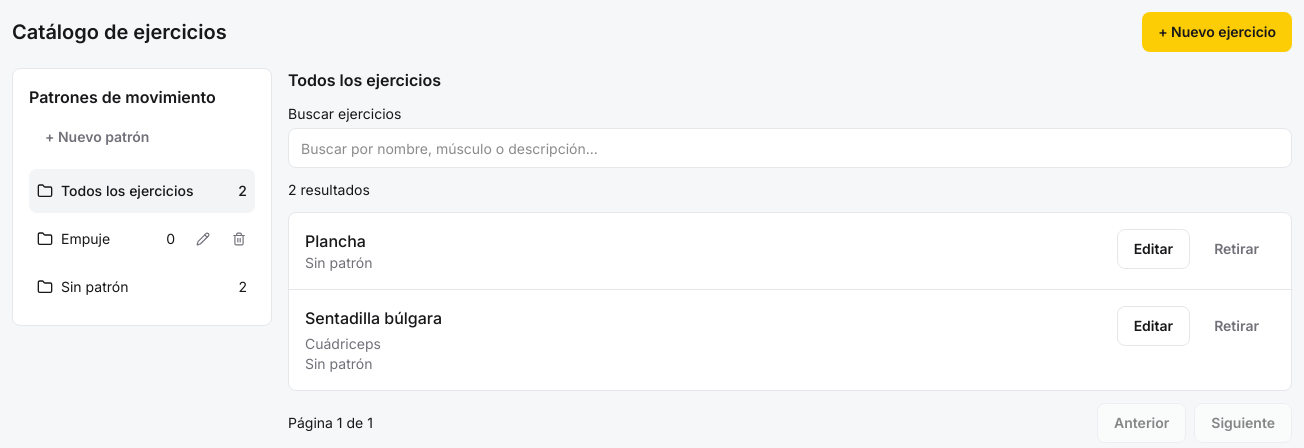
Scenario: lists active exercises alphabetically, omits empty optional fields and uses the shared search
The image size is (1304, 448).
Expected: the heading "Sentadilla búlgara" is shown, [305,308,442,328]
Expected: the list item "Plancha Sin patrón Editar Retirar" does not show "·", [289,213,1291,290]
Type "BULGARA futbol" into the search field. click: coordinates (790, 148)
box: [288,128,1292,168]
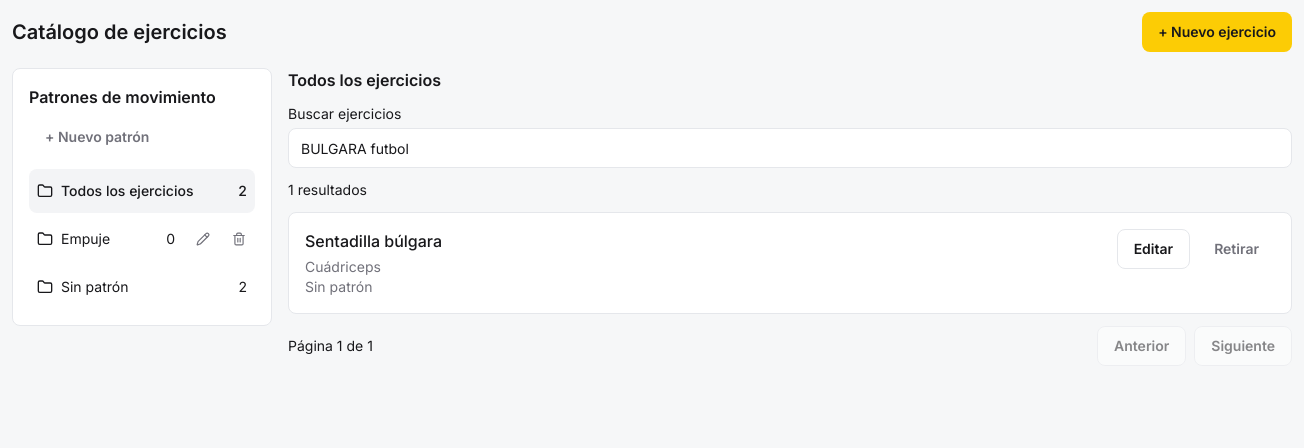
Expected: the heading "Sentadilla búlgara" is shown, [305,231,442,251]
Now the heading "Plancha" is gone
Replace the text in the search field with "tenis". click: coordinates (790, 148)
box: [288,128,1292,168]
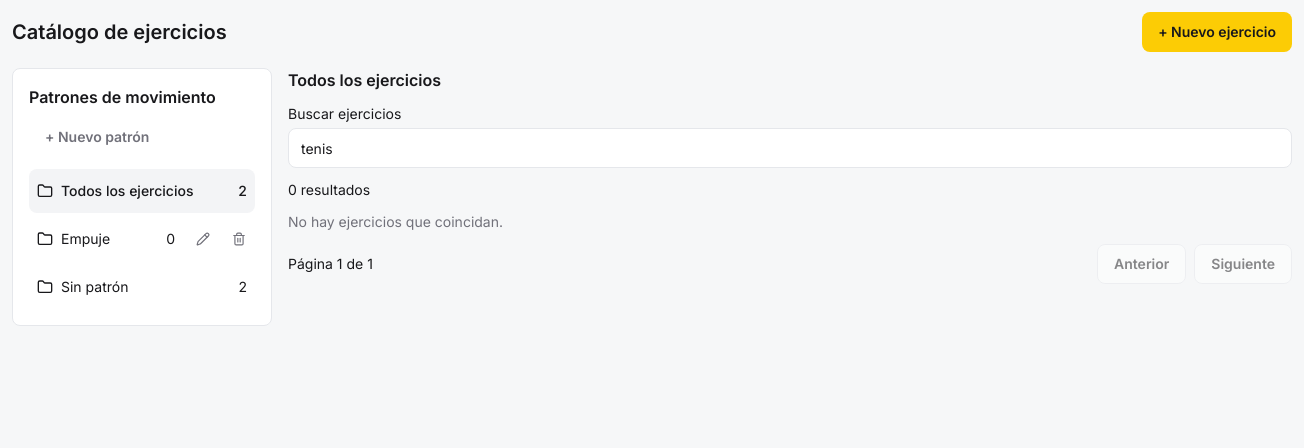
Now the text "No hay ejercicios que coincidan." is shown, box [288,213,503,230]
